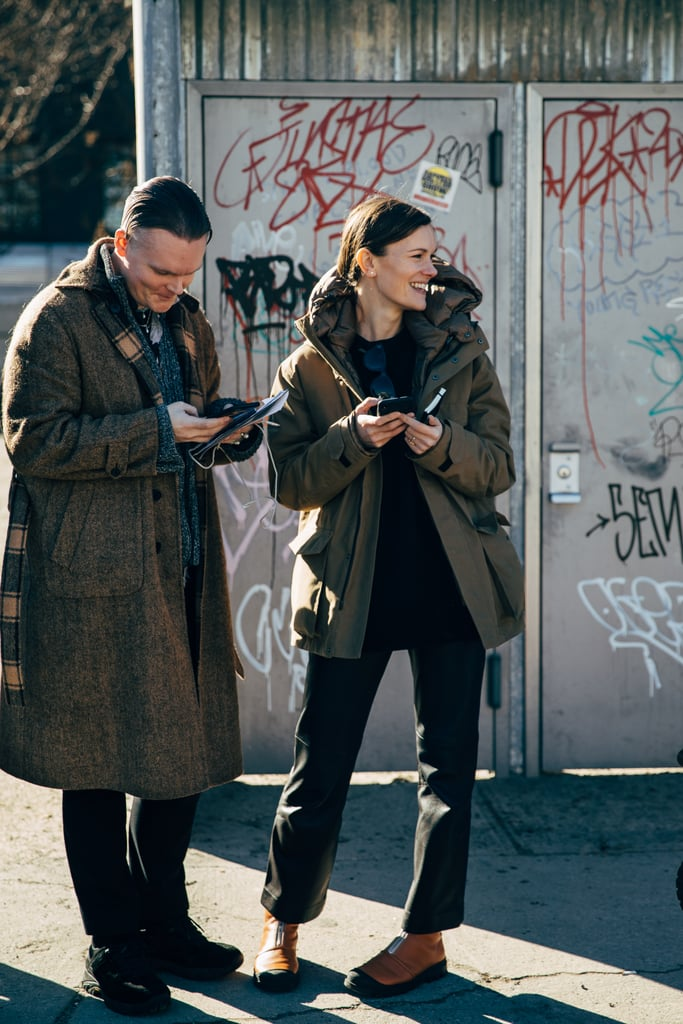Person: (266, 186, 536, 1019), (6, 168, 260, 1024)
